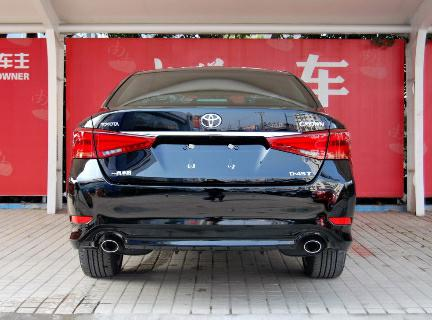丰田-皇冠: (56, 63, 365, 289)
